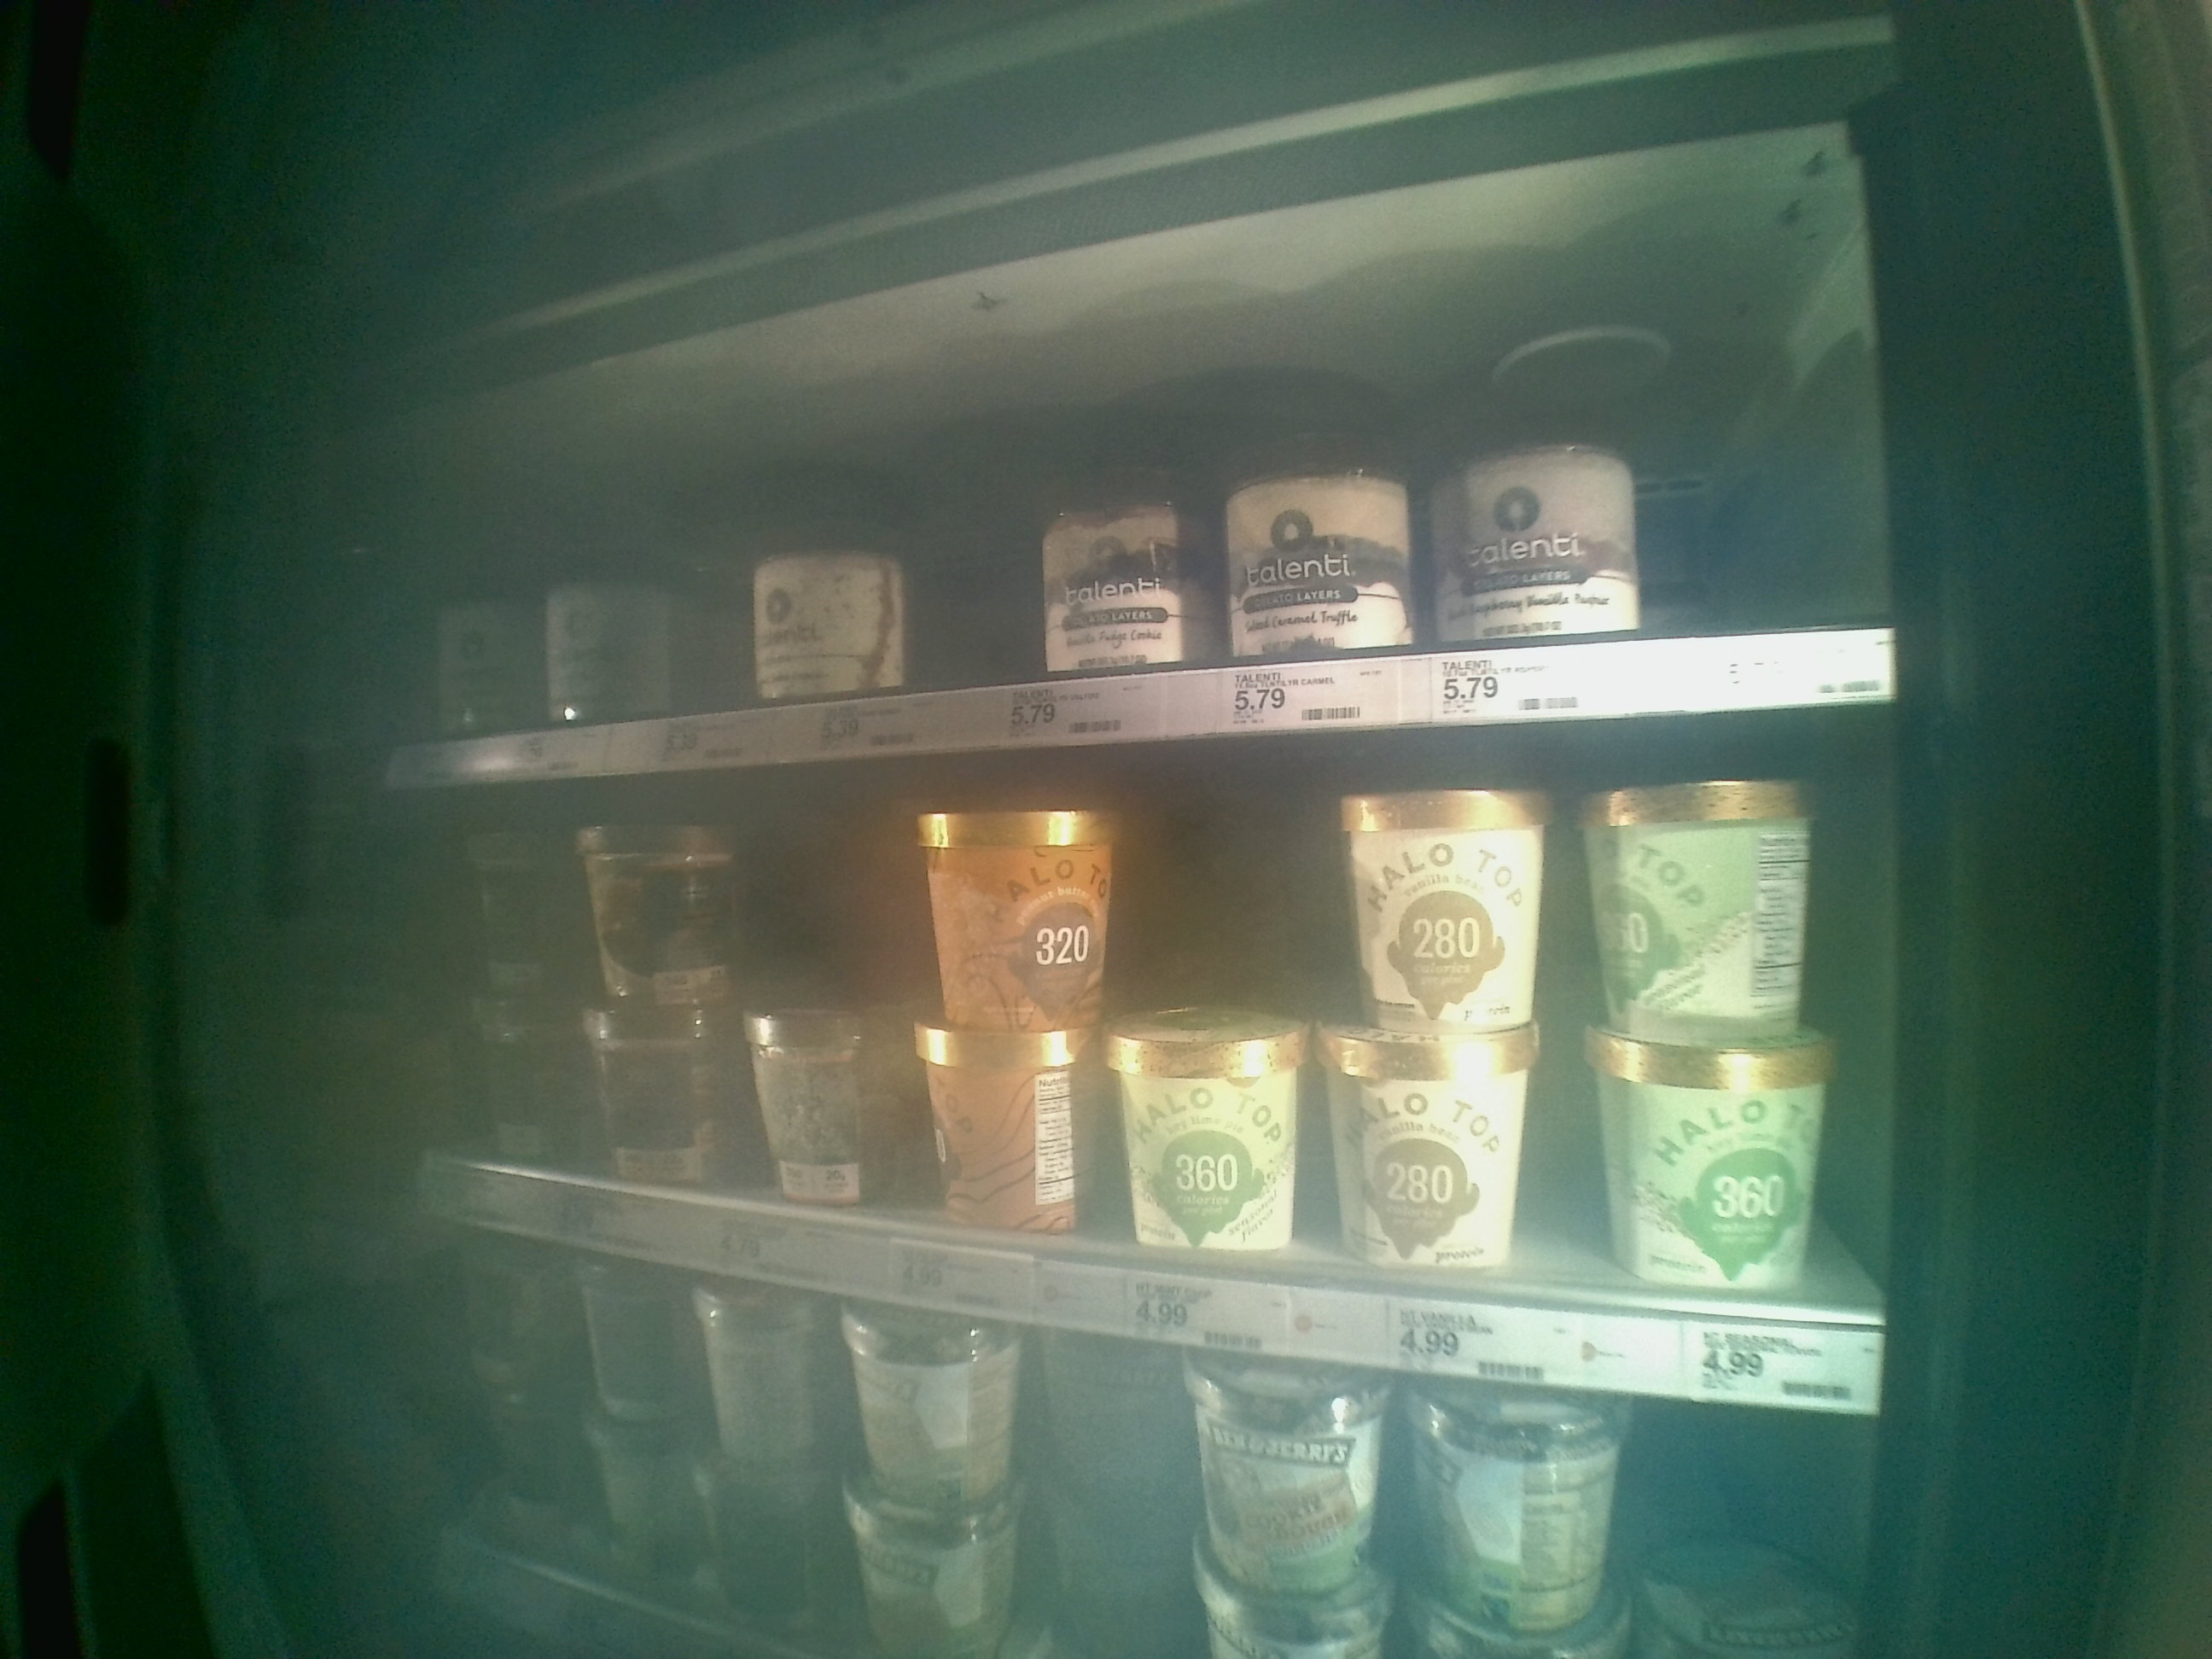shelf: (381, 692, 1905, 1417), (371, 390, 1932, 788)
